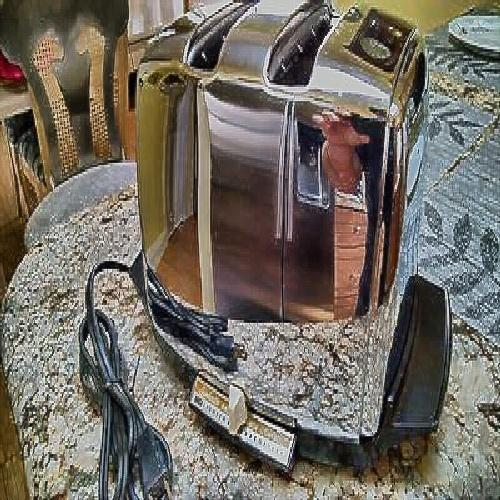toaster: (125, 10, 437, 387)
